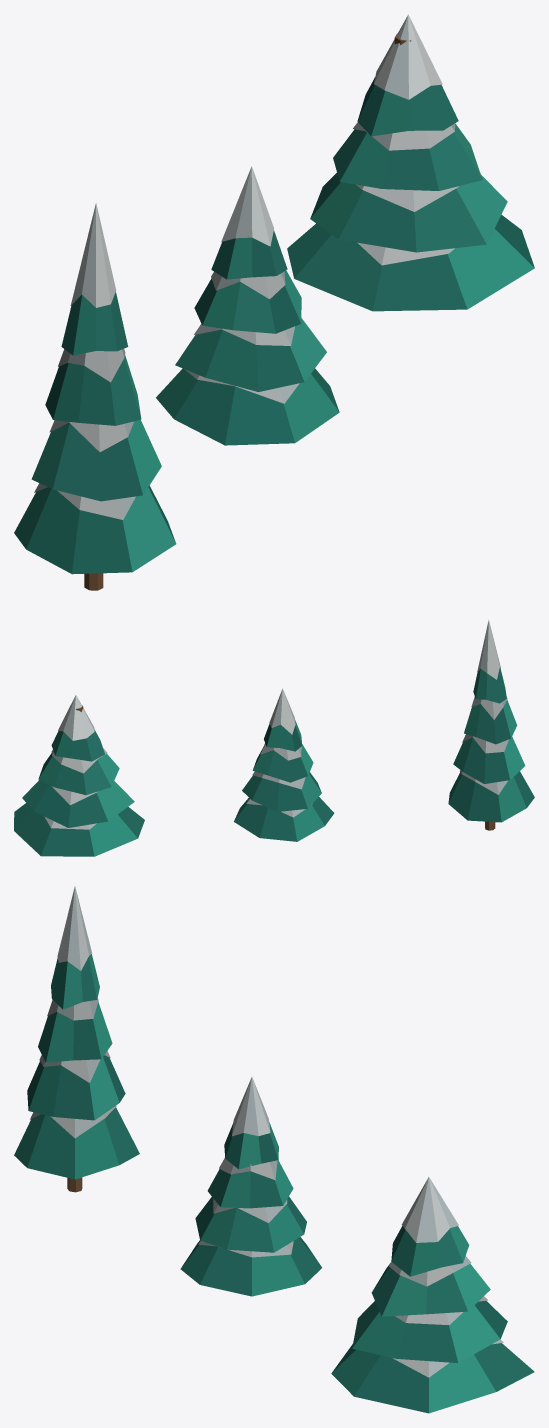
File: fir-sparse.glb
3 renders of one model, top to bottom at view 1: azimuth 30°, elevation 25°; view 2: azimuth 150°, elevation 25°; view 3: azimuth 270°, elevation 25°, orthographic. The views are drawn at different scales.
Visible parts, largest first — view 1: forest; view 2: forest; view 3: forest.
Boxes of the visible parts, bbox=[...] form: forest: bbox=[14, 14, 534, 590]; forest: bbox=[14, 619, 534, 856]; forest: bbox=[14, 886, 534, 1413].
Bounding box in the file's own units: 9.67 × 4.94 × 7.66.
